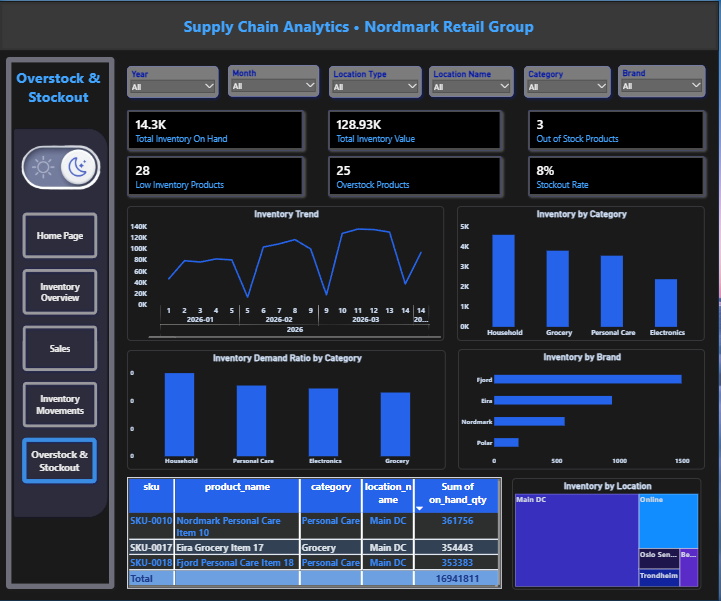

This screenshot's page, from the dashboard's own definition file:
{"tool":"powerbi","page":{"name":"Overstock & Stockout","canvas":[3600,3000],"ordinal":4},"visuals":[{"type":"slicer","fields":{"Values":["dim_date.Month (Short)"]},"box":[1142.7,322.7,456.4,158],"z":0,"group":"g3"},{"type":"group","id":"g1","title":"Group 2","box":[639.3,547.4,2887.8,200.9],"z":0,"group":"g4"},{"type":"cardVisual","fields":{"Data":["A Measures.Total Inventory On Hand"]},"box":[639.3,547.4,883.6,200.9],"z":0,"group":"g1"},{"type":"cardVisual","fields":{"Data":["A Measures.Low Inventory Products"]},"box":[639.3,776.6,883.6,200.9],"z":0,"group":"g2"},{"type":"slicer","fields":{"Values":["silver__location_master__lite.location_name"]},"box":[2152.2,325.8,423.3,155],"z":1000,"group":"g3"},{"type":"cardVisual","fields":{"Data":["A Measures.Total Inventory Value"]},"box":[1646.3,547.4,868.8,200.9],"z":1000,"group":"g1"},{"type":"shape","box":[33.7,632.2,515,1960],"z":1000},{"type":"group","id":"g2","title":"Group 2","box":[639.3,776.6,2887.8,200.9],"z":1000,"group":"g4"},{"type":"cardVisual","fields":{"Data":["A Measures.Overstock Products"]},"box":[1646.3,776.6,868.8,200.9],"z":1000,"group":"g2"},{"type":"slicer","fields":{"Values":["silver__product_master__lite.brand"]},"box":[3094.7,321.7,436.5,161],"z":2000,"group":"g3"},{"type":"cardVisual","fields":{"Data":["A Measures.Out of Stock Products"]},"box":[2643.5,547.4,883.6,200.9],"z":2000,"group":"g1"},{"type":"cardVisual","fields":{"Data":["A Measures.Stockout Rate"]},"box":[2643.5,776.6,883.6,200.9],"z":2000,"group":"g2"},{"type":"shape","box":[33.7,280.5,542.4,2659.6],"z":3000},{"type":"slicer","fields":{"Values":["silver__product_master__lite.category"]},"box":[2625.1,325.8,433.2,158],"z":3000,"group":"g3"},{"type":"slicer","fields":{"Values":["dim_date.Year"]},"box":[639.7,325.8,457.4,159.4],"z":4000,"group":"g3"},{"type":"group","id":"g3","title":"Group 1","box":[639.7,321.7,2891.5,157.1],"z":5000},{"type":"slicer","fields":{"Values":["silver__location_master__lite.location_type"]},"box":[1648.4,325.8,463,158],"z":5000,"group":"g3"},{"type":"pageNavigator","box":[99.9,1042.8,403.6,1386.5],"z":7000},{"type":"image","box":[41.1,669.6,540,300],"z":8000},{"type":"shape","box":[0,0,3598.5,250.6],"z":9000},{"type":"group","id":"g4","title":"Group 3","box":[639.3,547.4,2884.8,431.5],"z":22000},{"type":"textbox","box":[75.9,327.6,471.5,319.6],"z":23000},{"type":"tableEx","fields":{"Values":["silver__product_master__lite.sku","silver__product_master__lite.product_name","silver__product_master__lite.category","silver__location_master__lite.location_name","Sum(silver__inventory_snapshots__lite.on_hand_qty)"]},"box":[639.3,2381.4,1873.9,559.4],"z":24000},{"type":"clusteredColumnChart","title":"Inventory by Category","fields":{"Category":["silver__product_master__lite.category"],"Y":["A Measures.Total Inventory On Hand"]},"box":[2297.4,1026.9,1238.6,675.2],"z":25000},{"type":"lineChart","title":"Inventory Trend","fields":{"Category":["dim_date.Year","dim_date.Year-Month","dim_date.ISO Week Number"],"Y":["Sum(silver__inventory_snapshots__lite.on_hand_qty)"]},"box":[639.3,1026.9,1586.2,675.2],"z":26000},{"type":"clusteredBarChart","title":"Inventory by Brand","fields":{"Category":["silver__product_master__lite.brand"],"Y":["A Measures.Total Inventory On Hand"]},"box":[2297.4,1738.1,1234.6,603.3],"z":27000},{"type":"treemap","title":"Inventory by Location","fields":{"Group":["silver__location_master__lite.location_name"],"Values":["A Measures.Total Inventory On Hand"]},"box":[2577.1,2381.4,946.9,559.4],"z":28000},{"type":"clusteredColumnChart","title":"Inventory Demand Ratio by Category","fields":{"Category":["silver__product_master__lite.category"],"Y":["A Measures.Inventory to Sales Ratio"]},"box":[639.3,1742.1,1594.2,599.3],"z":29000}]}

Visuals, with their boxes in screenshot pixels (x1, y1, x2, y2), scaled from the page's 3600x3000 canvas onto the 721x601 screenshot:
slicer - dim_date.Month (Short): l=229, t=65, r=320, b=96
"Group 2" group: l=128, t=110, r=706, b=150
cardVisual - A Measures.Total Inventory On Hand: l=128, t=110, r=305, b=150
cardVisual - A Measures.Low Inventory Products: l=128, t=156, r=305, b=196
slicer - silver__location_master__lite.location_name: l=431, t=65, r=516, b=96
cardVisual - A Measures.Total Inventory Value: l=330, t=110, r=504, b=150
shape: l=7, t=127, r=110, b=519
"Group 2" group: l=128, t=156, r=706, b=196
cardVisual - A Measures.Overstock Products: l=330, t=156, r=504, b=196
slicer - silver__product_master__lite.brand: l=620, t=64, r=707, b=97
cardVisual - A Measures.Out of Stock Products: l=529, t=110, r=706, b=150
cardVisual - A Measures.Stockout Rate: l=529, t=156, r=706, b=196
shape: l=7, t=56, r=115, b=589
slicer - silver__product_master__lite.category: l=526, t=65, r=613, b=97
slicer - dim_date.Year: l=128, t=65, r=220, b=97
"Group 1" group: l=128, t=64, r=707, b=96
slicer - silver__location_master__lite.location_type: l=330, t=65, r=423, b=97
pageNavigator: l=20, t=209, r=101, b=487
image: l=8, t=134, r=116, b=194
shape: l=0, t=0, r=720, b=50
"Group 3" group: l=128, t=110, r=706, b=196
textbox: l=15, t=66, r=110, b=130
tableEx - silver__product_master__lite.sku x silver__product_master__lite.product_name: l=128, t=477, r=503, b=589
"Inventory by Category" clusteredColumnChart: l=460, t=206, r=708, b=341
"Inventory Trend" lineChart: l=128, t=206, r=446, b=341
"Inventory by Brand" clusteredBarChart: l=460, t=348, r=707, b=469
"Inventory by Location" treemap: l=516, t=477, r=706, b=589
"Inventory Demand Ratio by Category" clusteredColumnChart: l=128, t=349, r=447, b=469
